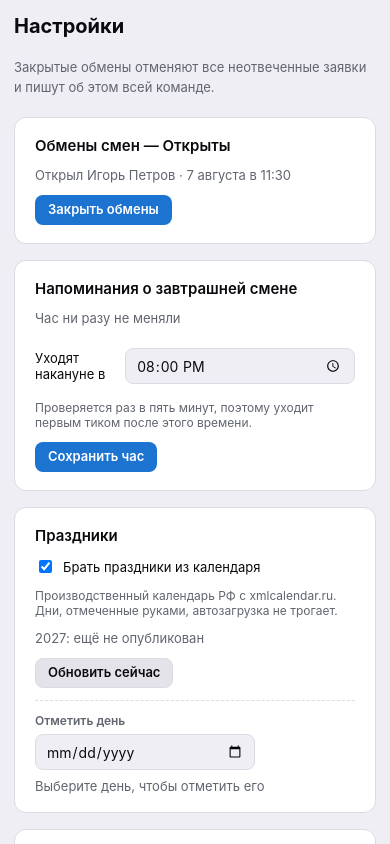
Scenario: SettingsScreen › первое нажатие не отправляет запрос, а спрашивает подтверждение
This screenshot has width=390, height=844.
Click the button "Закрыть обмены". click: coordinates (103, 210)
box: x1=35 y1=195 x2=172 y2=225
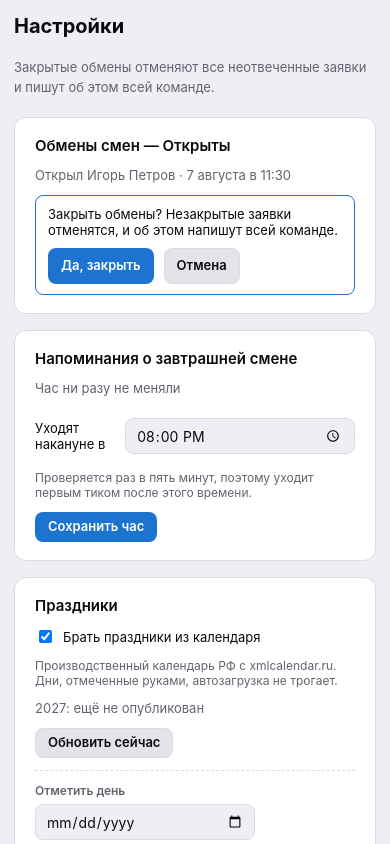
Expected: the text "Да, закрыть" is shown, x1=48 y1=248 x2=154 y2=284
